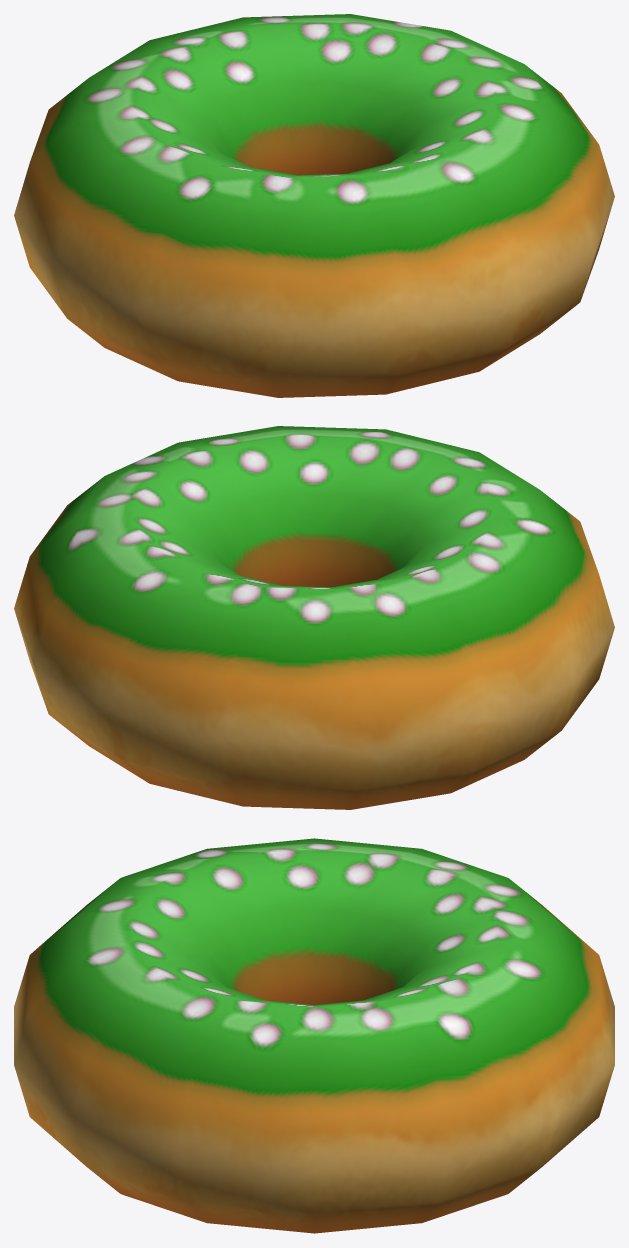
File: 007-Donut_07.FBX
The picture shows the model from 3 angles, top to bottom: view 1: azimuth 30°, elevation 25°; view 2: azimuth 150°, elevation 25°; view 3: azimuth 270°, elevation 25°; orthographic projection. The views are drawn at different scales.
Visible parts, largest first — view 1: 007-Donut_07; view 2: 007-Donut_07; view 3: 007-Donut_07.
Part boxes in pixels (left/top/right/bottom): 007-Donut_07: left=14, top=14, right=614, bottom=397; 007-Donut_07: left=14, top=426, right=614, bottom=809; 007-Donut_07: left=14, top=838, right=614, bottom=1233.
Size of the model in its own units: 15.8 by 6.06 by 15.4.
